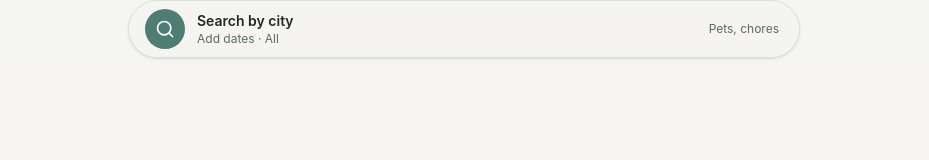
Test case: <QuickSearch /> › collapses on scroll and expands when clicked
(page scrolled)
Click the button with aria-label "open search": (165, 29) [128, 0, 800, 58]
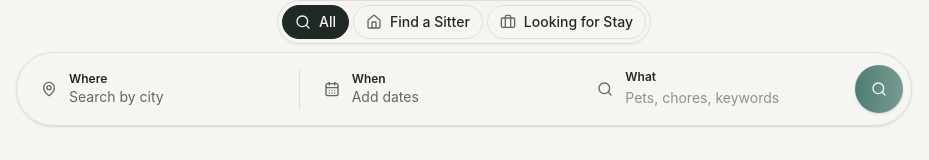
Check: the text "Find a Sitter" is shown, box [390, 12, 470, 32]
